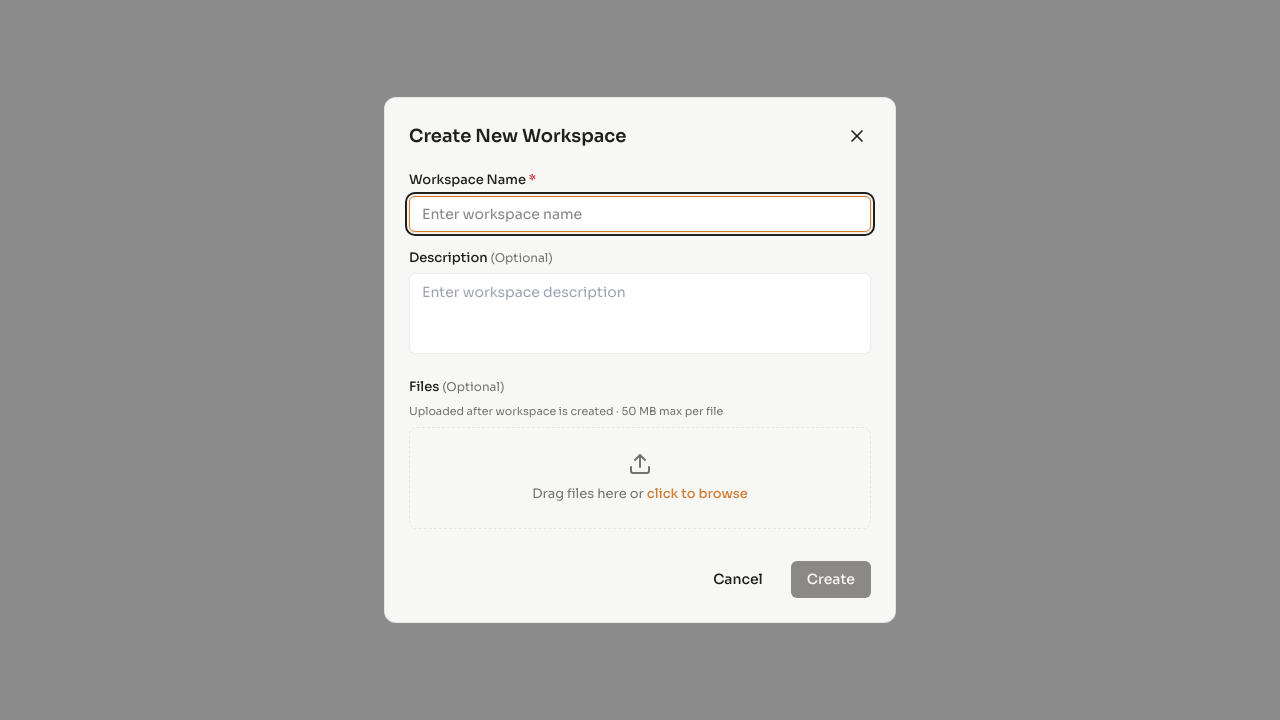
CreateWorkspaceModal › keeps the user on the form and relays the quota service's sentence on a 429
Step 1. Type "Denied" into the field with placeholder "Enter workspace name" → (640, 214), box [409,196,871,232]
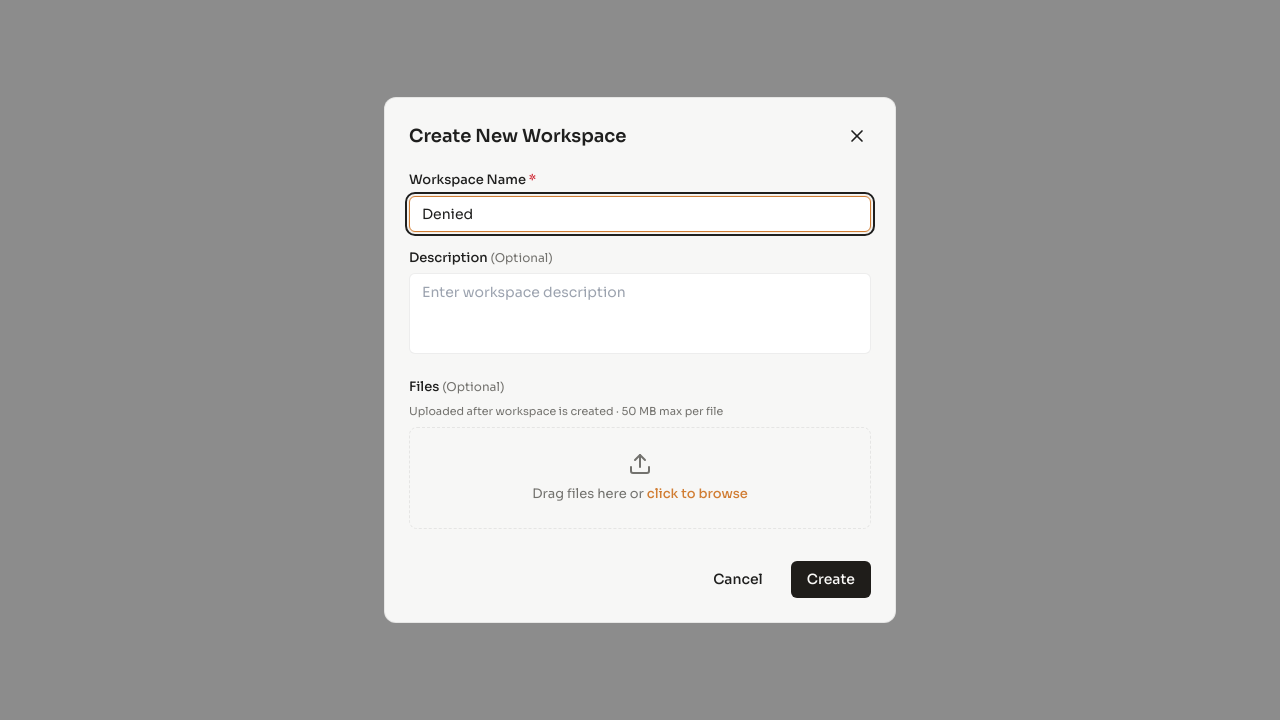
Step 2. Click the button "Create" → (831, 579), box [791,561,871,598]
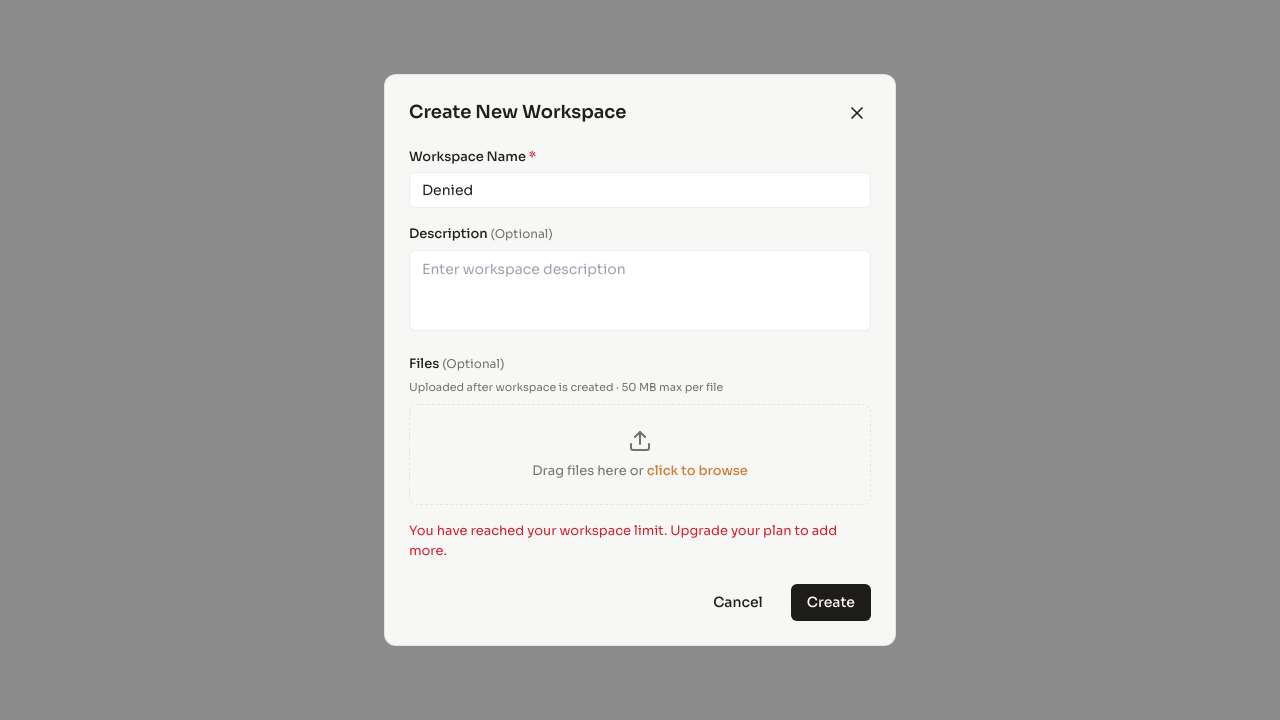
Check: the text "You have reached your workspace limit. Upgrade your plan to add more." is shown, box [409,521,871,560]
